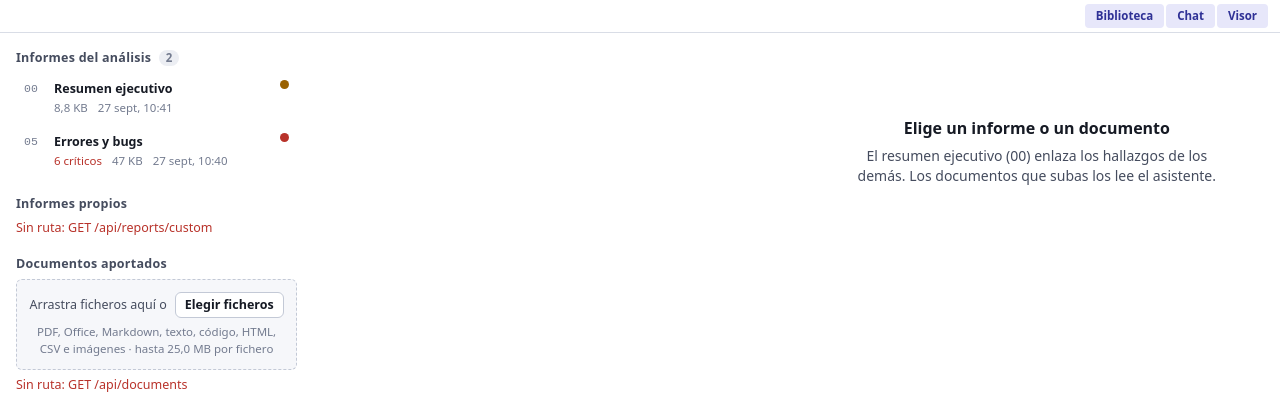
Test case: AssistantTab › un 503 report_unavailable se avisa como transitorio y «Reintentar» lo vuelve a pedir
What coordinates should you click on to do the following:
click the button "05 Errores y bugs 6 críticos 47 KB 27 sept, 10:40"
I would click on:
 (157, 151)
Its box is x1=16 y1=126 x2=297 y2=177.
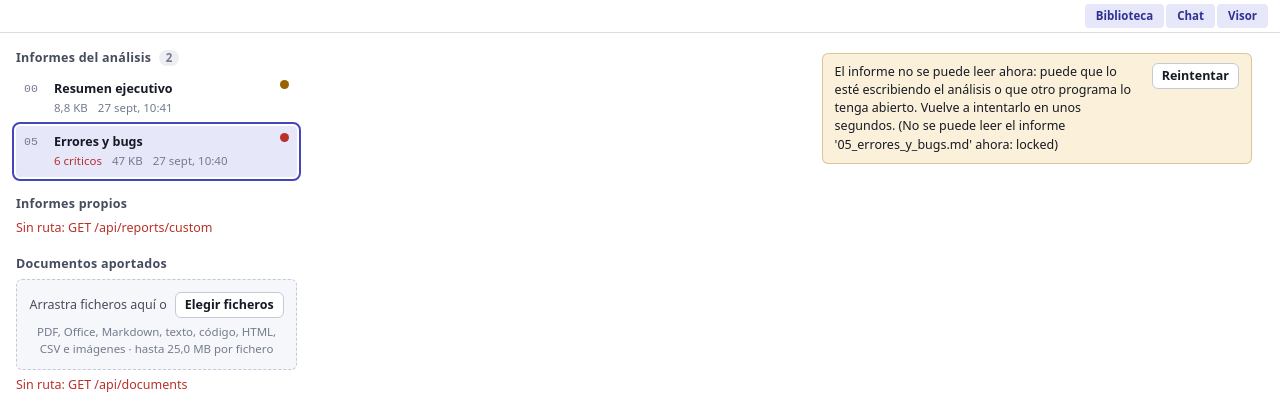
Result: the text "El informe no se puede leer ahora: puede que lo esté escribiendo el análisis" shows "(No se puede leer el informe '05_errores_y_bugs.md' ahora: locked)" at x1=835 y1=63 x2=1131 y2=152
What coordinates should you click on to do the following:
click the button "Reintentar"
I would click on:
 (1195, 76)
Its box is x1=1152 y1=63 x2=1239 y2=89.
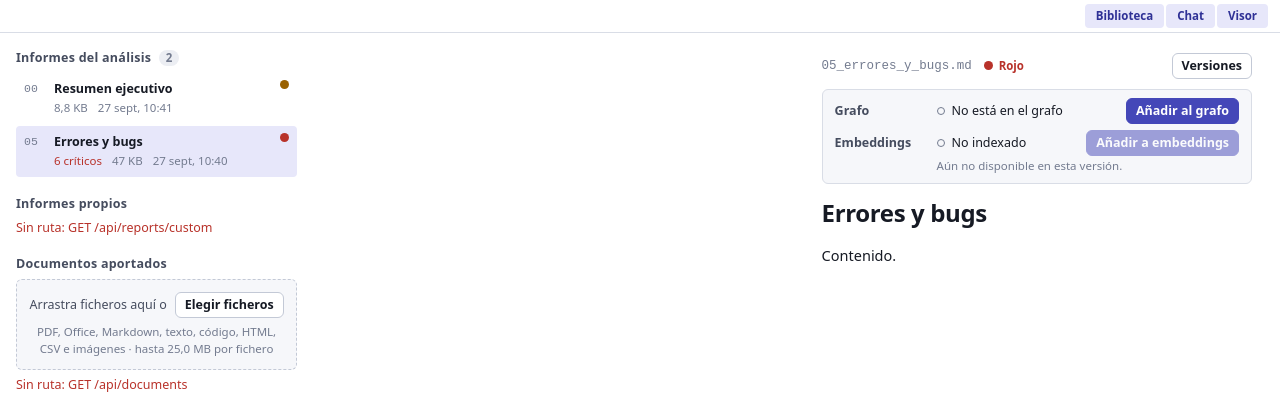
Result: the heading "Errores y bugs" is shown at x1=822 y1=196 x2=987 y2=229
Result: the button "Reintentar" is gone
